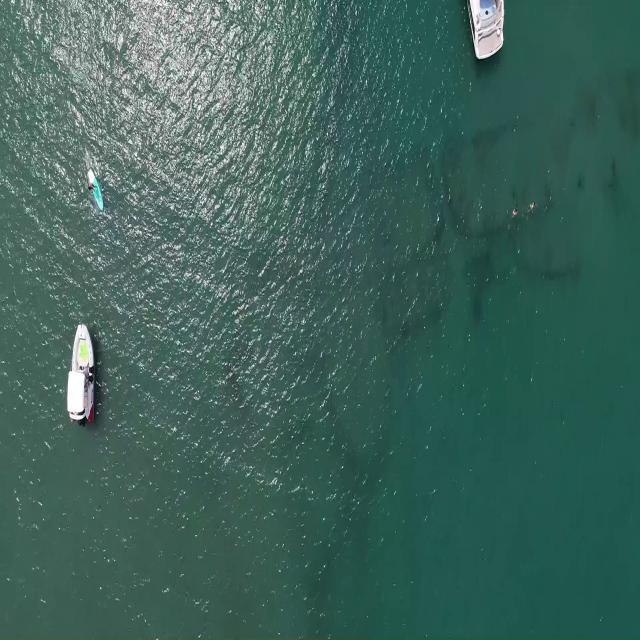boat: (65, 312, 97, 433)
person: (527, 200, 541, 215), (87, 181, 98, 196), (512, 207, 520, 217)
surfboard: (87, 166, 103, 216)
